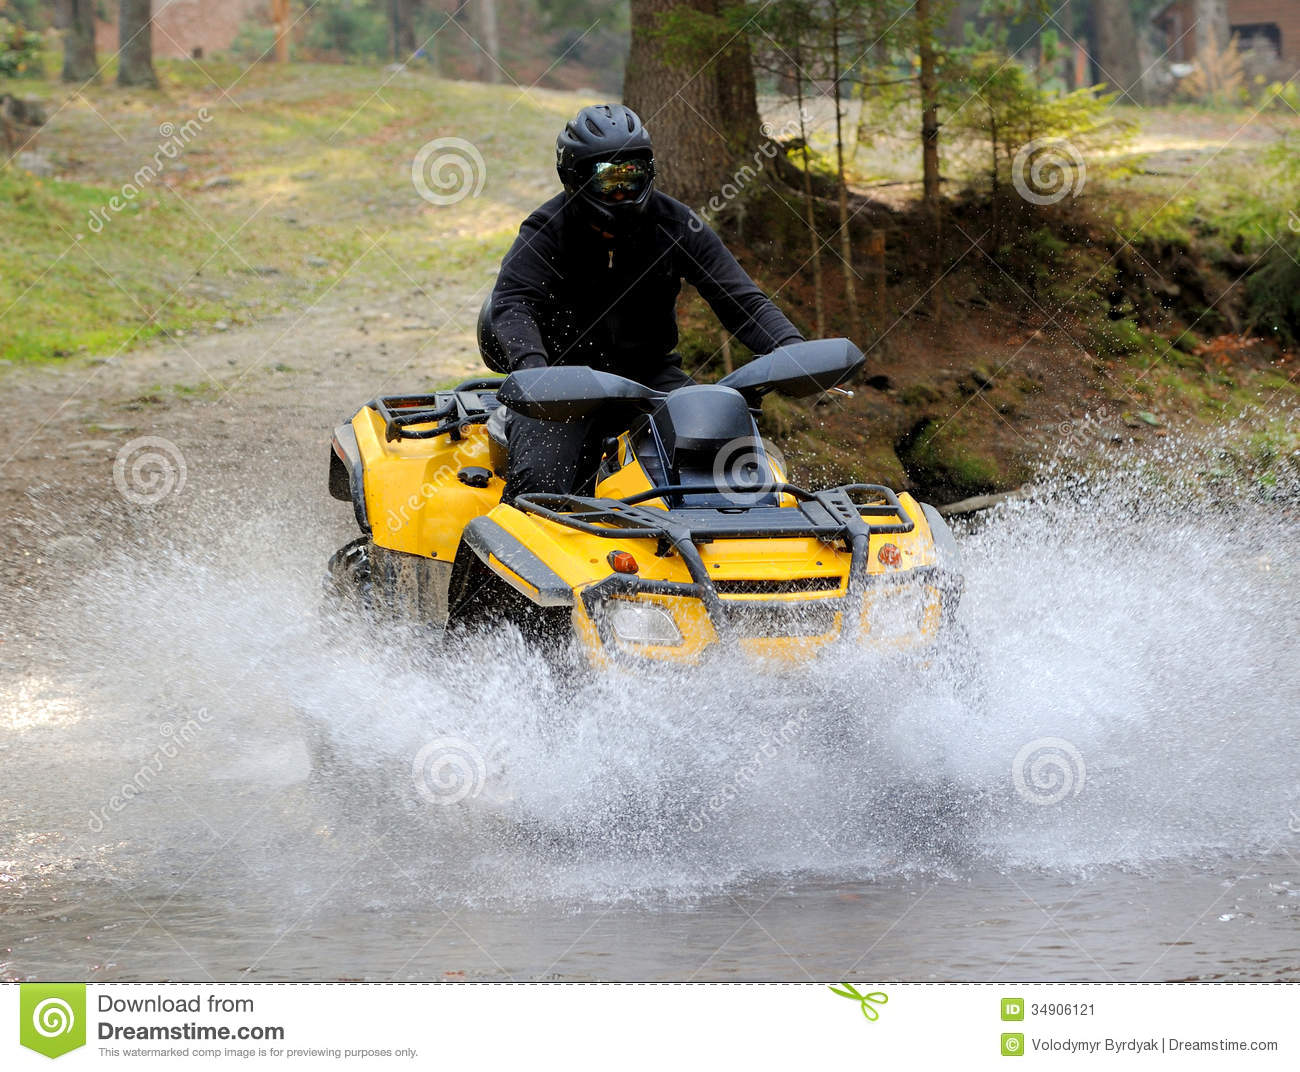helmet: (551, 90, 669, 215)
